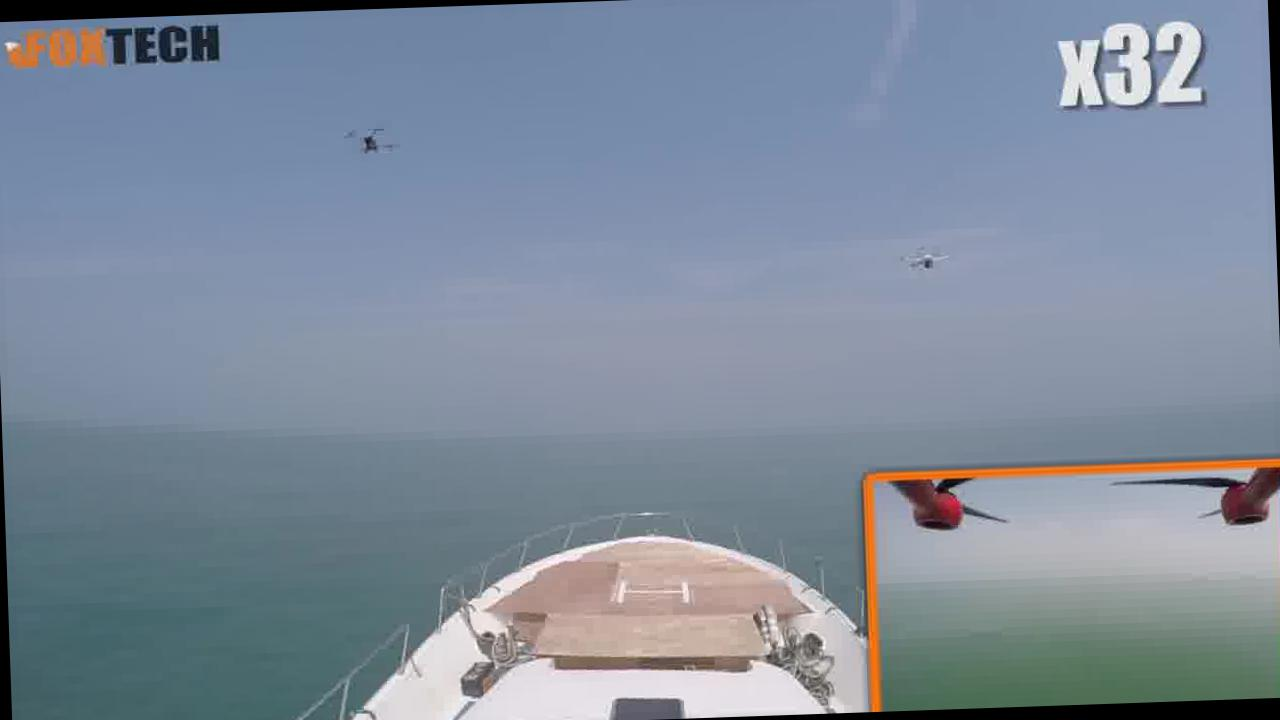drone: (333, 112, 419, 166), (881, 238, 958, 284)
